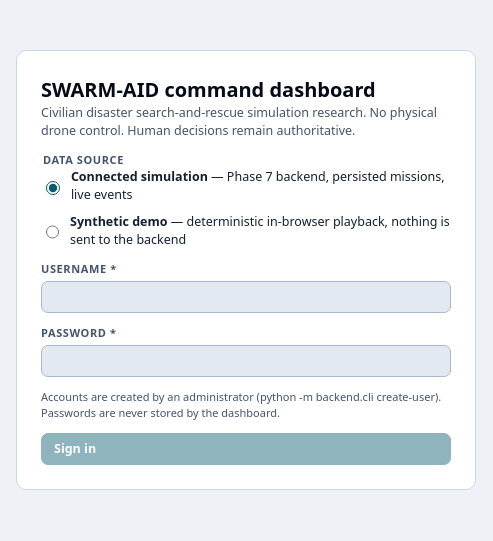
Test: authentication and protected routes › shows a clear error for rejected credentials and never stores the password
Type "coordinator" into the field labelled "Username *" at coordinates (246, 297), box [41,281,451,313]
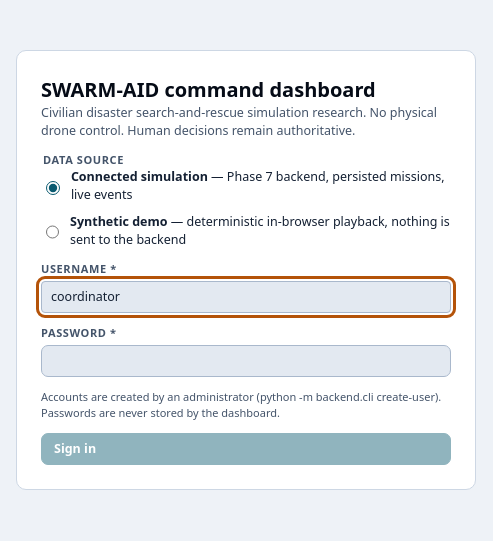
Type "wrong-password" into the password field labelled "Password *" at coordinates (246, 361), box [41,345,451,377]
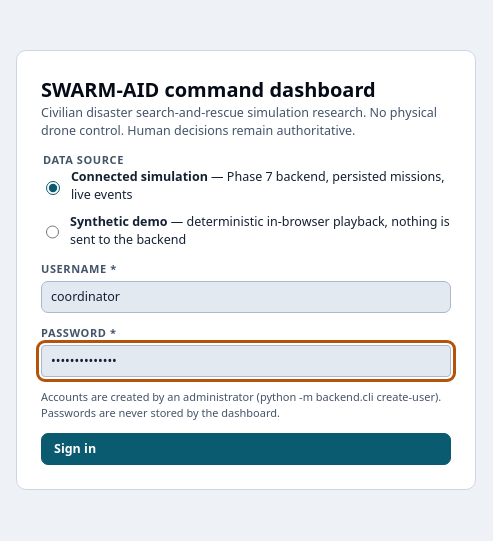
Click the button "Sign in" at coordinates (75, 448), box [41,433,451,465]
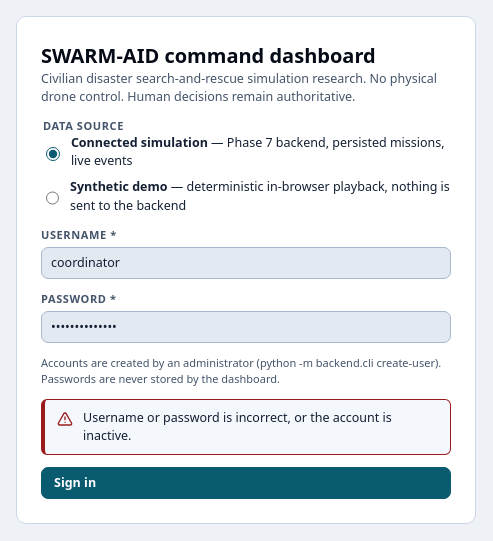
Result: the text "Username or password is incorrect" is shown at [83,409,392,444]
